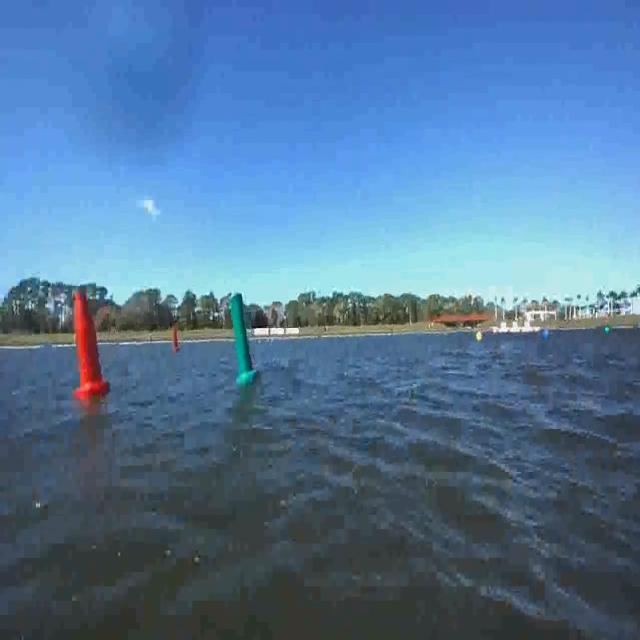blue-buoy: (541, 328, 548, 341)
green-buoy: (603, 326, 610, 334)
green-column-buoy: (229, 293, 260, 384)
red-column-buoy: (71, 292, 110, 401), (172, 326, 181, 352)
yellow-buoy: (474, 332, 482, 344)
